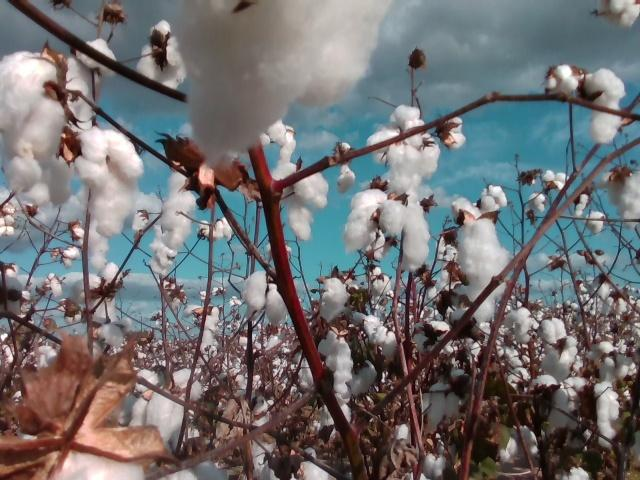cotton_ready: (171, 0, 388, 164), (71, 130, 145, 270), (0, 51, 66, 207), (459, 217, 509, 324), (147, 171, 196, 277), (128, 389, 190, 454), (377, 196, 430, 271), (368, 104, 425, 173), (137, 20, 187, 91), (317, 332, 354, 423), (528, 374, 582, 435), (579, 71, 626, 141), (344, 189, 394, 251), (212, 436, 279, 480), (69, 265, 121, 321), (578, 381, 621, 448), (50, 451, 147, 480), (62, 59, 96, 137), (390, 139, 440, 192), (241, 272, 286, 328), (353, 312, 399, 366), (601, 171, 640, 231), (419, 378, 460, 433), (75, 40, 119, 78), (265, 455, 331, 480), (500, 426, 539, 466), (540, 339, 579, 378), (151, 462, 235, 480), (271, 126, 297, 184), (407, 320, 454, 352), (344, 360, 378, 403), (295, 171, 328, 209), (600, 342, 630, 383), (322, 278, 350, 321), (602, 0, 640, 31), (449, 196, 490, 223), (546, 65, 579, 98), (0, 275, 22, 318), (288, 209, 314, 241), (481, 185, 507, 216), (444, 117, 466, 150), (257, 118, 283, 145), (541, 316, 564, 341)
